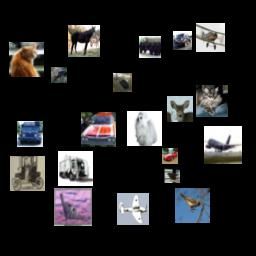airplane: (54, 188, 92, 226), (204, 126, 242, 164), (117, 193, 149, 225), (196, 23, 225, 52)
automobile: (81, 112, 116, 147), (10, 156, 45, 191), (173, 31, 192, 50), (162, 148, 178, 164)
bird: (175, 188, 210, 223), (113, 73, 132, 92), (164, 167, 180, 183)
cat: (9, 42, 44, 77), (196, 85, 228, 117), (51, 67, 67, 83)
deer: (167, 96, 193, 122)
dog: (127, 111, 162, 146)
truck: (58, 151, 93, 186), (17, 121, 43, 147), (139, 36, 161, 58)
